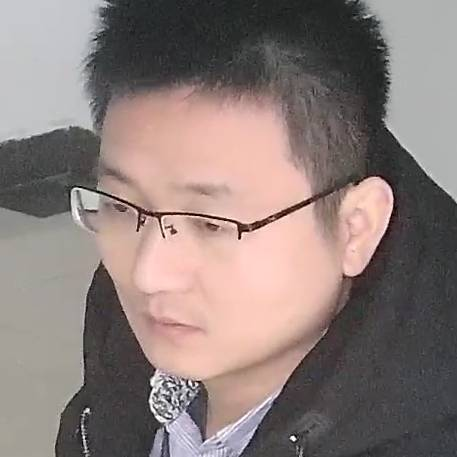gg: (58, 71, 398, 379)
